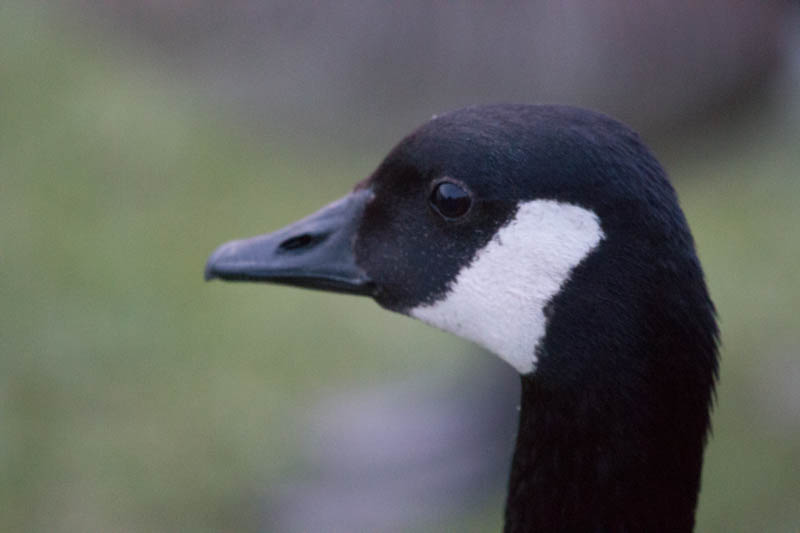goose-head: (202, 102, 719, 380)
